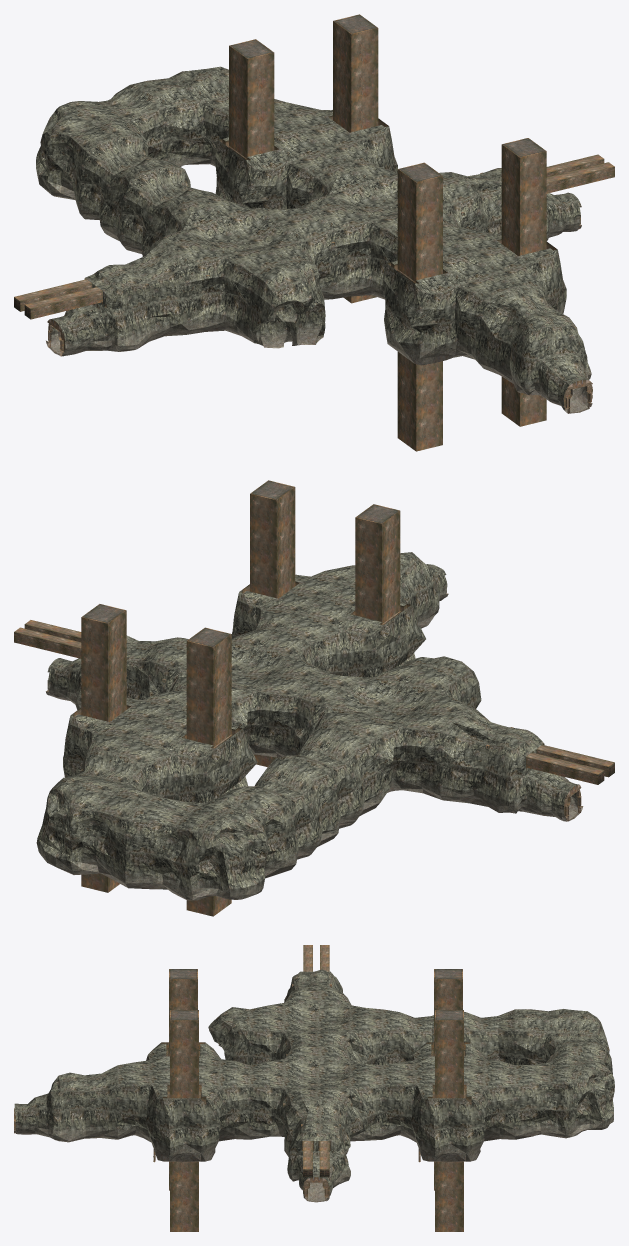
File: poi_all_bunker_allum_mine_r43_largeroom43_mesh_r43.fbx
3 renders of one model, top to bottom at view 1: azimuth 30°, elevation 25°; view 2: azimuth 150°, elevation 25°; view 3: azimuth 270°, elevation 25°, orthographic. The views are drawn at different scales.
Parts seen in each view (by area): view 1: mesh_node; view 2: mesh_node; view 3: mesh_node.
Part boxes in pixels (x1,y1,x2,y2): mesh_node: [14, 14, 614, 451]; mesh_node: [14, 480, 614, 916]; mesh_node: [14, 945, 614, 1231].
Size of the model in its own units: 128 by 56.6 by 145.
